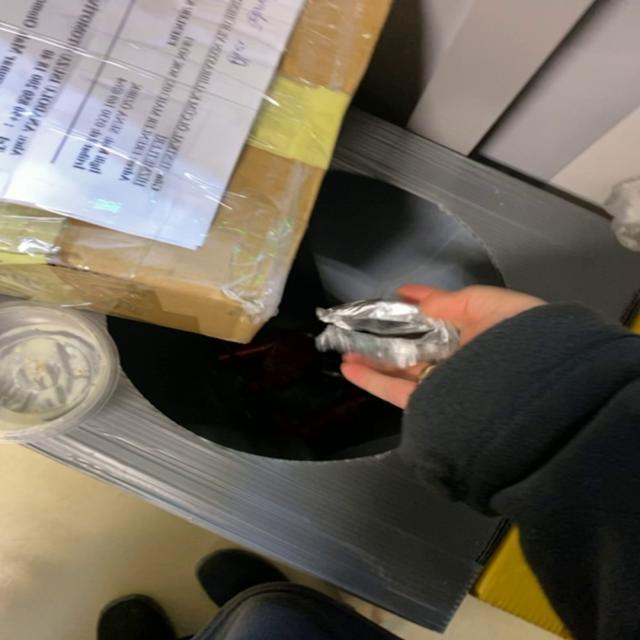Bin: (30, 108, 639, 632)
Metal: (316, 300, 460, 371)
